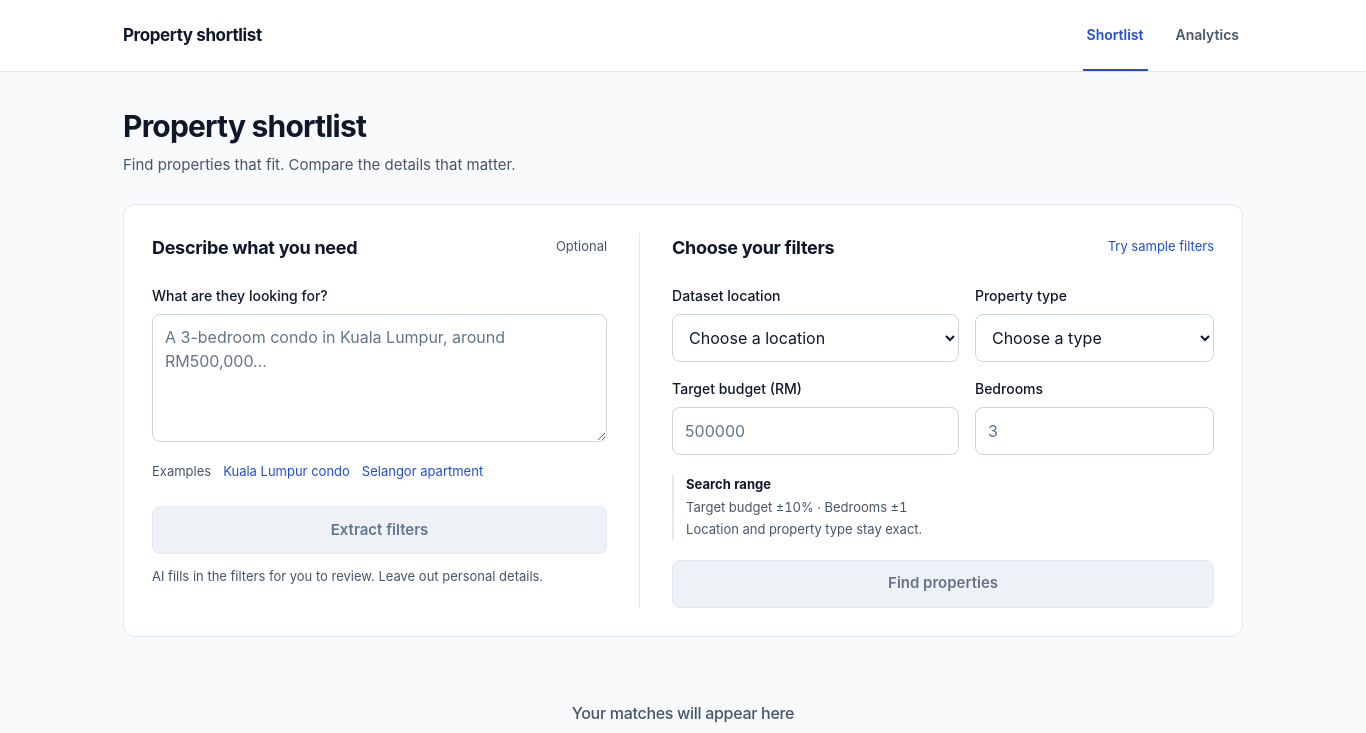
Test: hard-limit wording requires explicit review of the displayed range
Click the button "Try sample filters": x=1161, y=247 [1108,225,1214,269]
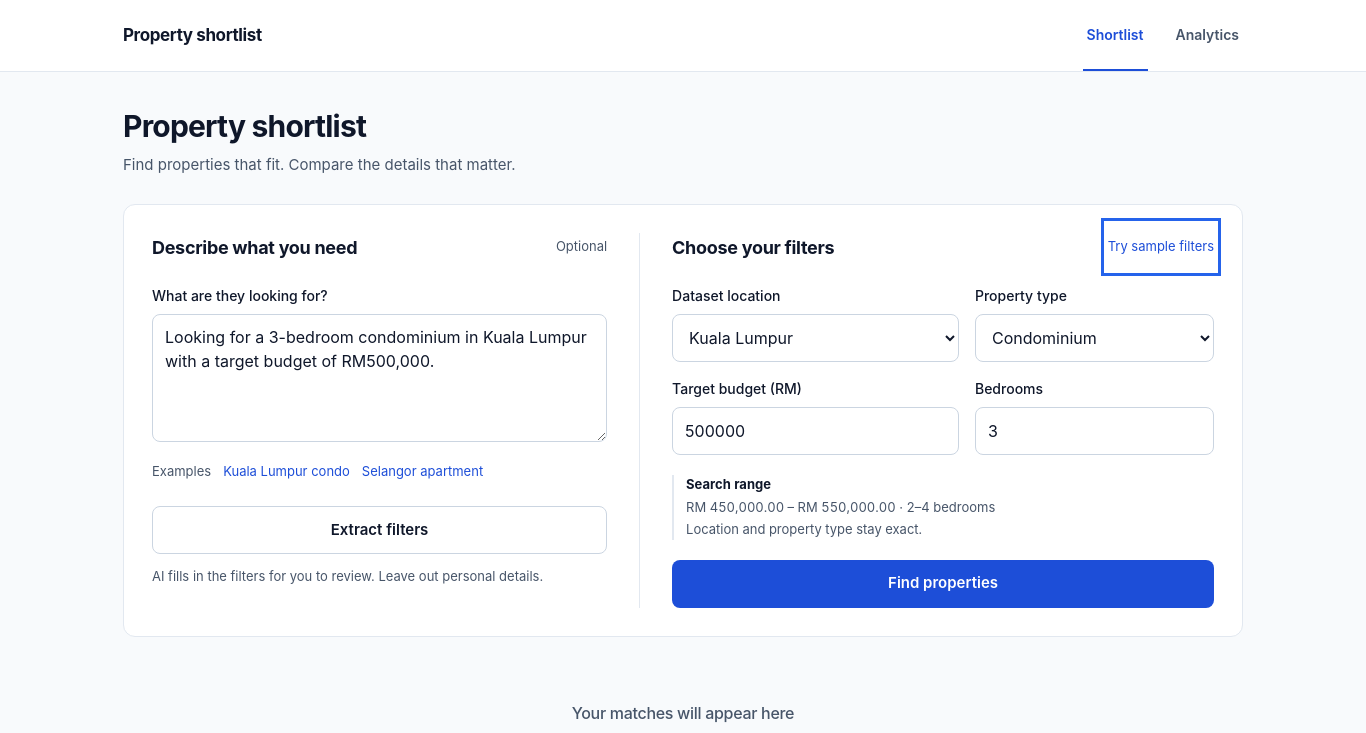
Replace the text in the text box labelled "What are they looking for?" with "Under RM500k": x=380, y=378 [152,314,607,442]
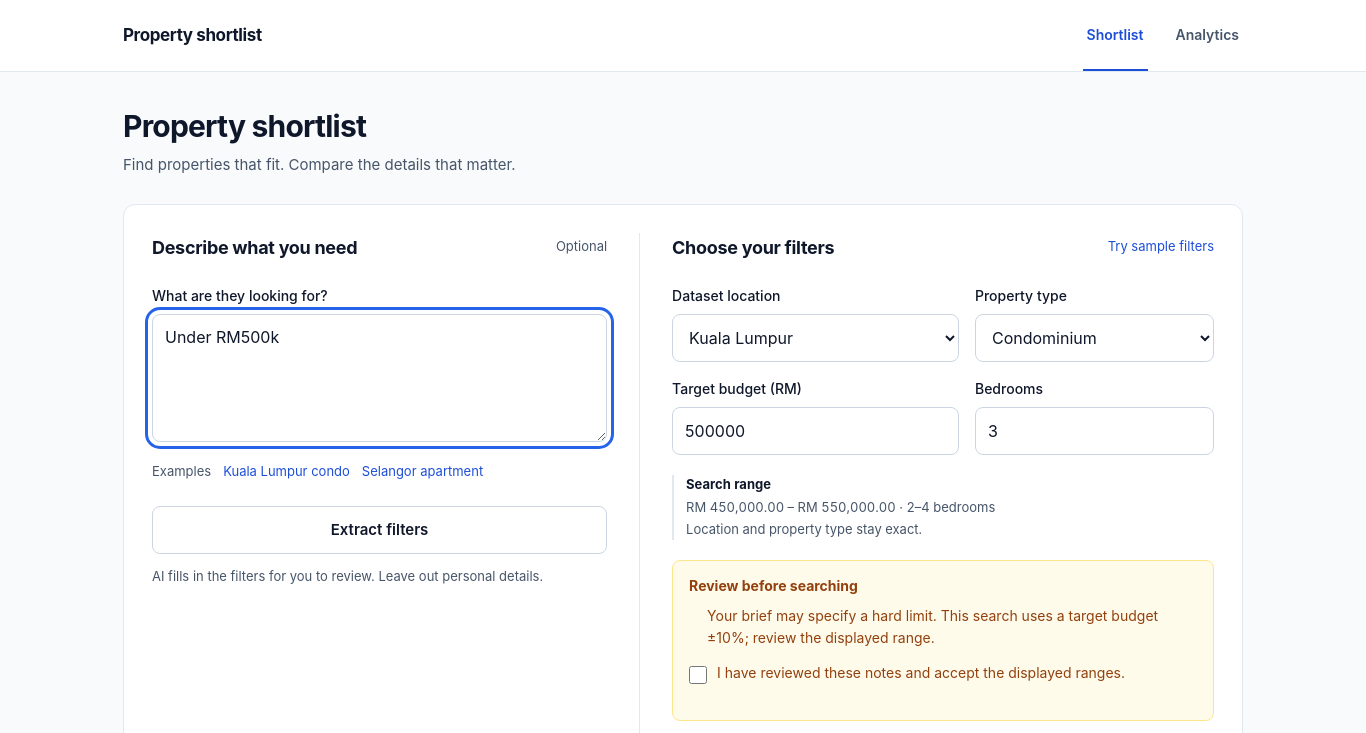
Click the checkbox labelled "I have reviewed these notes and accept the displayed ranges.": x=698, y=675 [689,666,707,684]
(page scrolled)
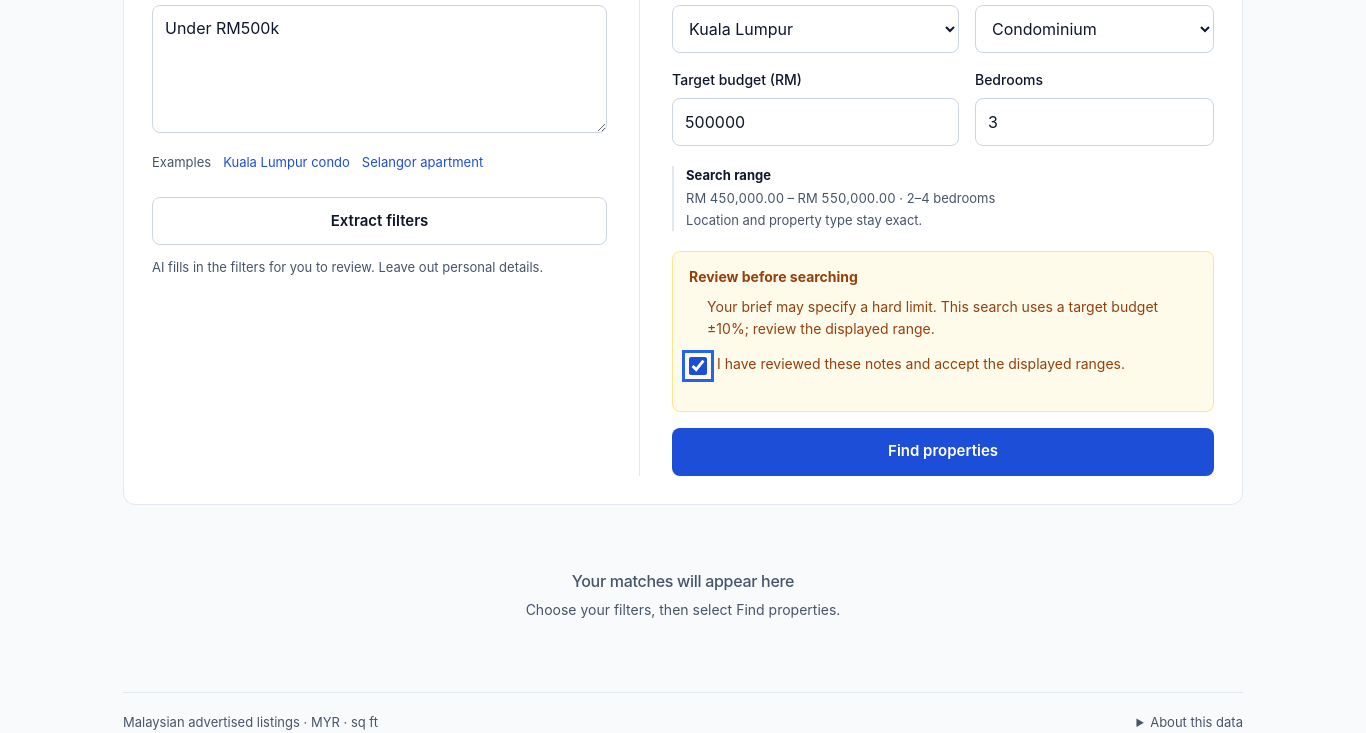
Expected: the button "Find properties" is enabled, [672,428,1214,476]
